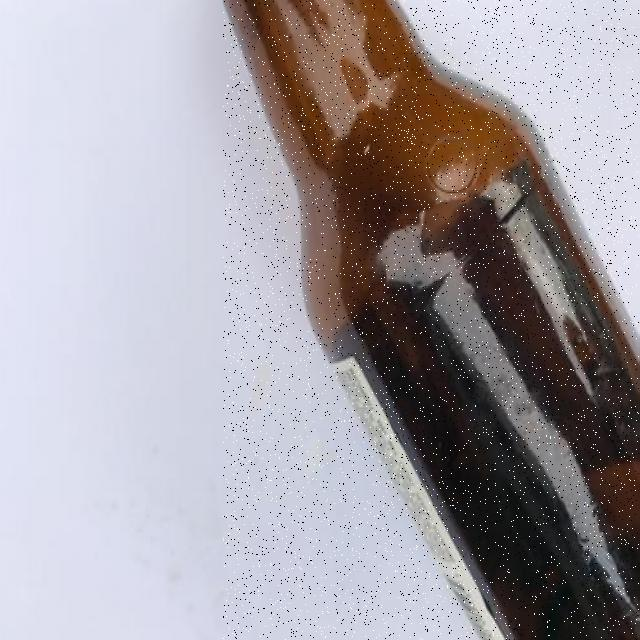glass: (223, 0, 639, 640)
